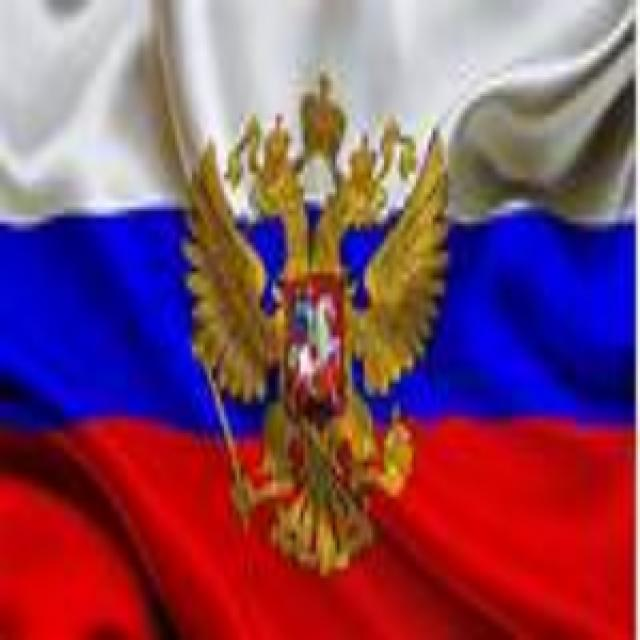russia: (0, 1, 626, 640)
